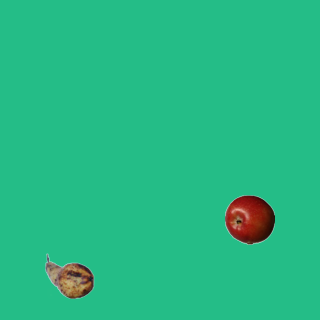Apple Braeburn: (224, 194, 274, 244)
Pear Abate: (44, 251, 94, 301)
